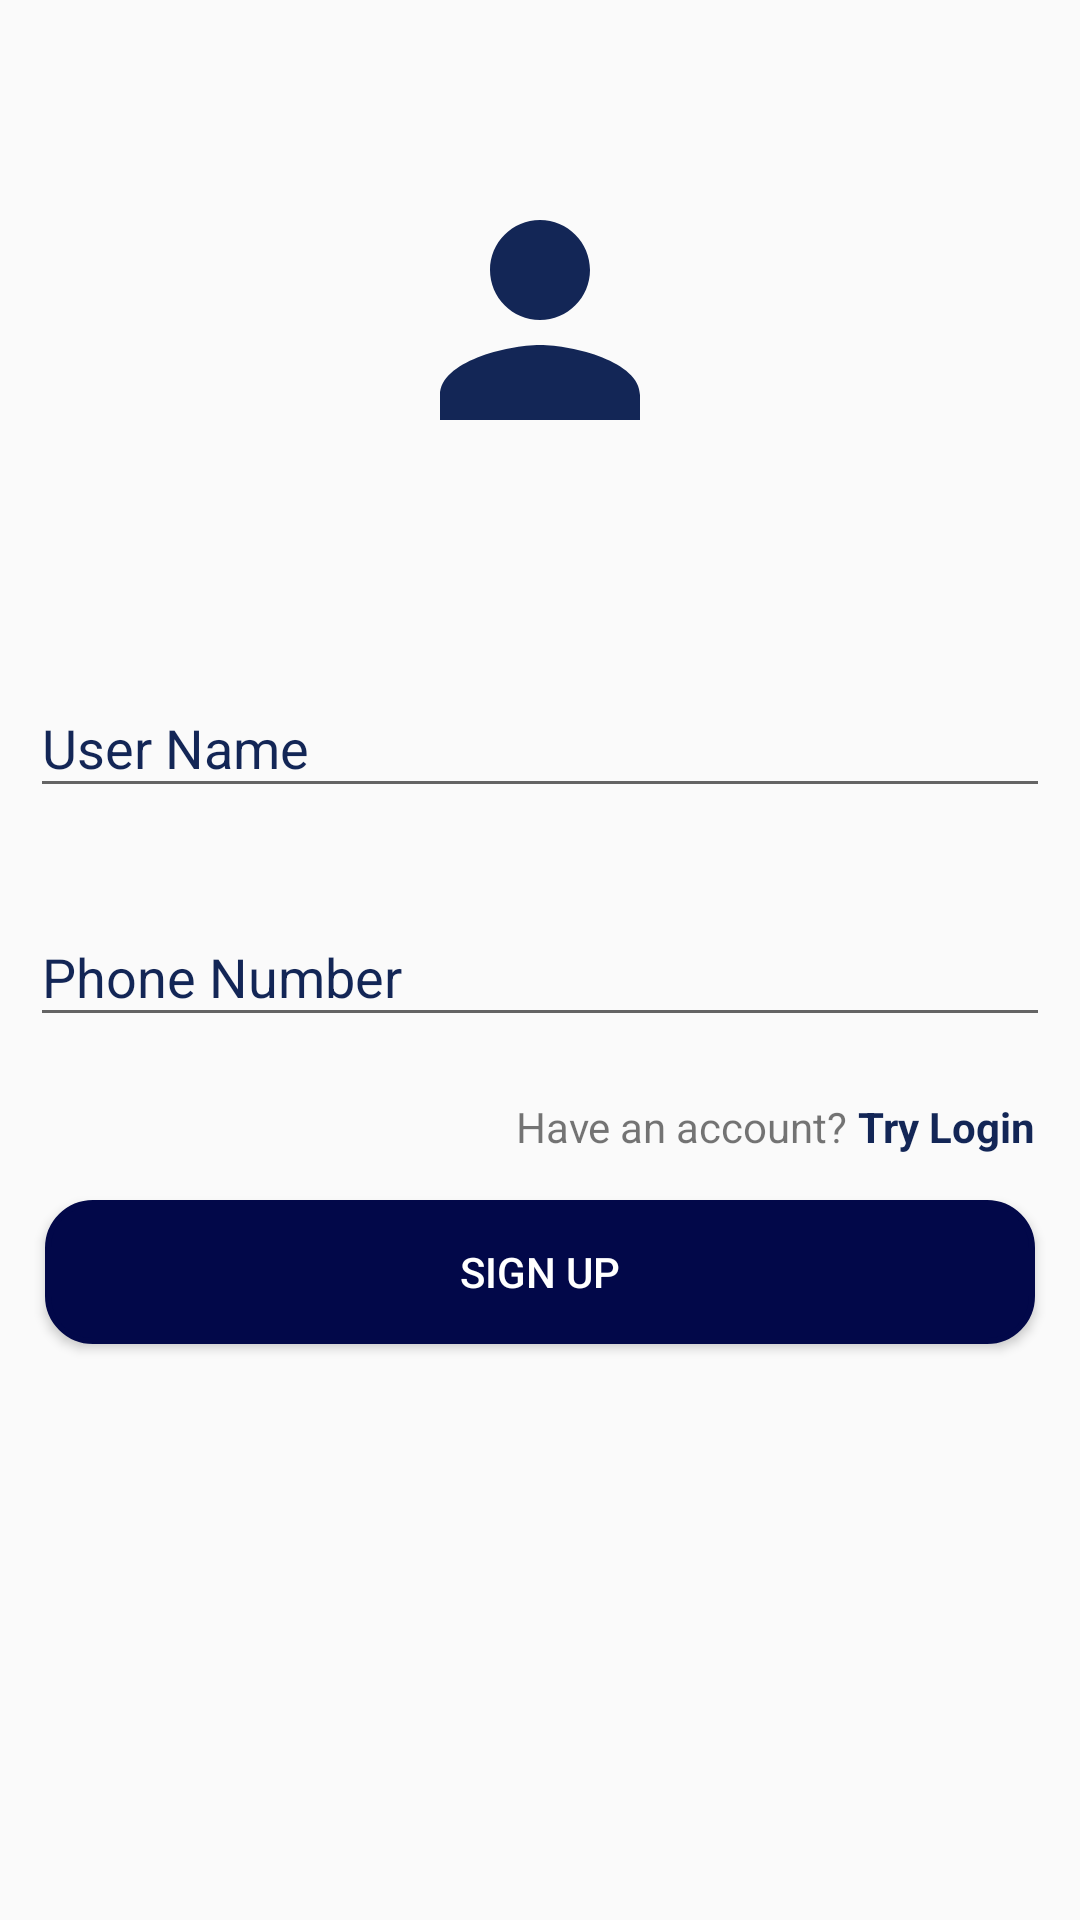

Screen size 1080x1920. Icon name, then its center in pixels as (x=x, y=y):
person: (x=540, y=320)
